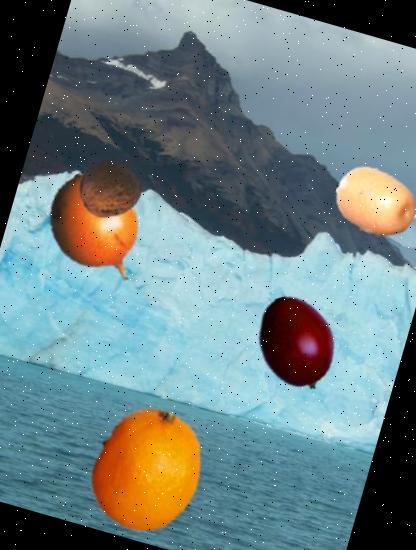Granadilla: (24, 156, 170, 302)
Kumquats: (323, 150, 416, 254)
Lemon: (69, 392, 225, 548)
Tamarillo: (234, 282, 359, 407)
Walnut: (71, 151, 146, 226)
